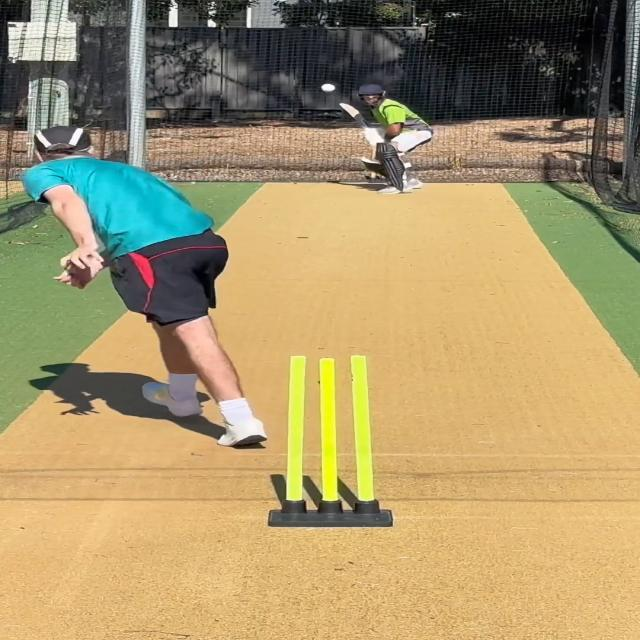ball: (318, 81, 337, 93)
stump: (274, 351, 390, 528)
